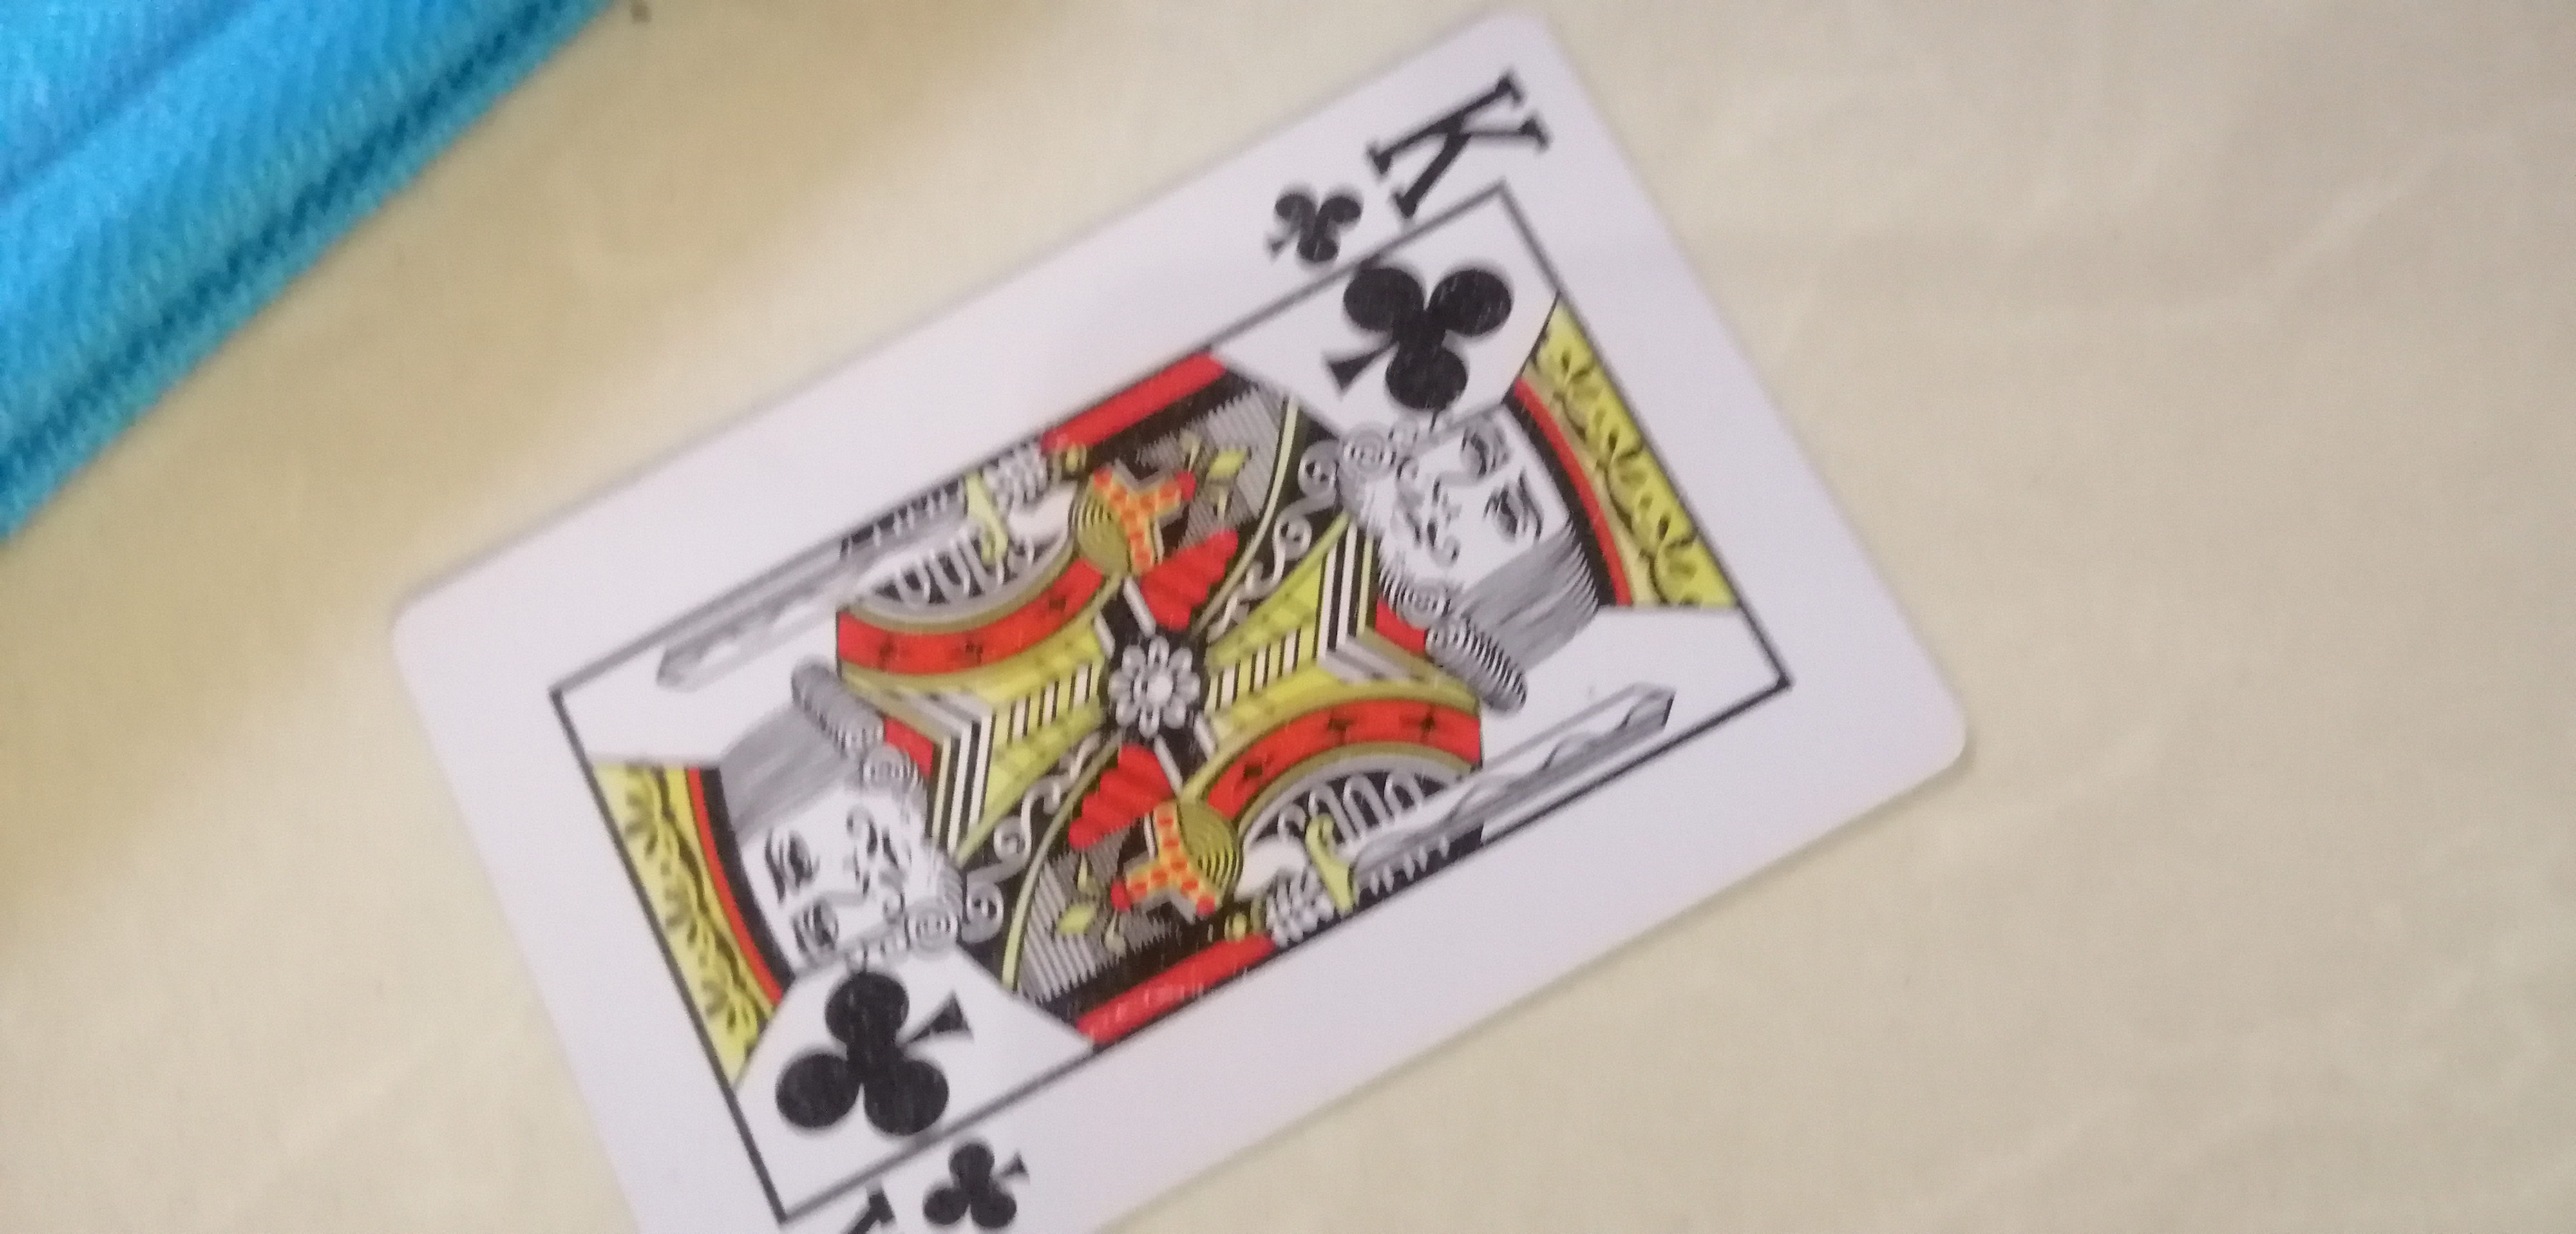king: (263, 25, 2124, 1214)
